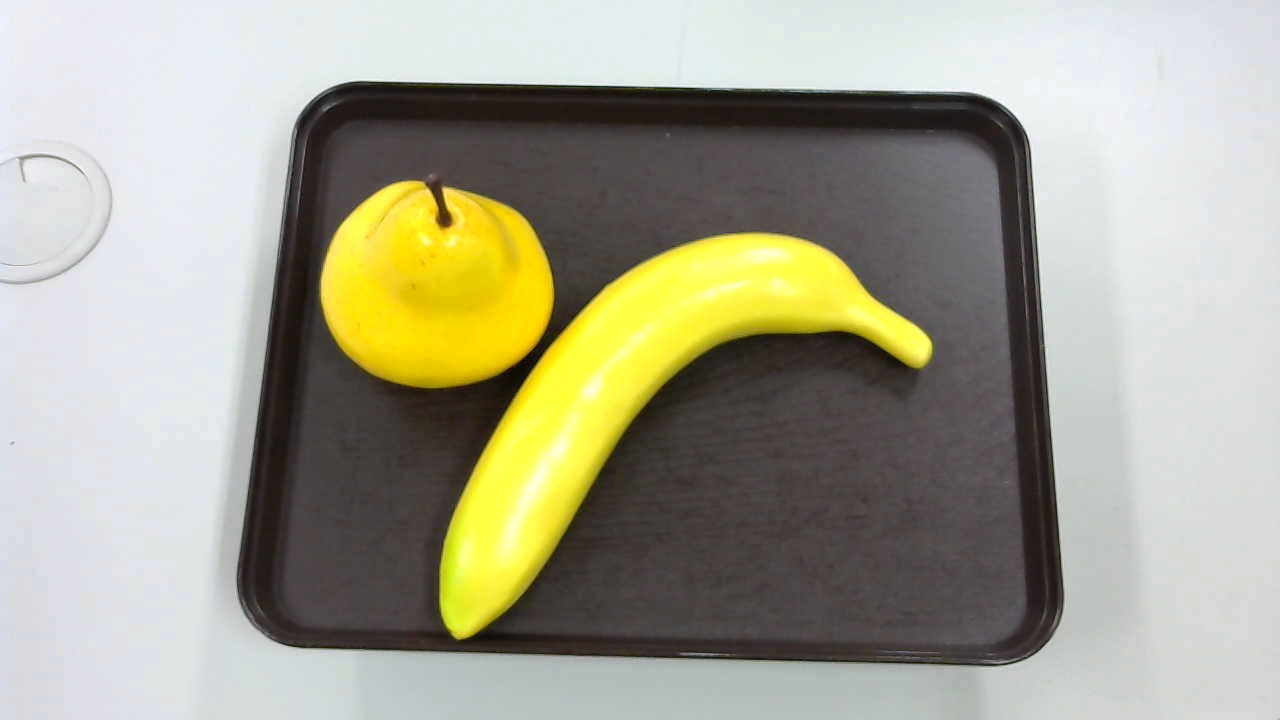banana: (437, 227, 935, 639)
yellow pear: (314, 172, 559, 391)
